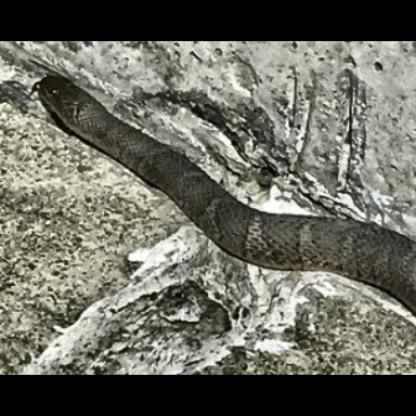Snake: (4, 68, 416, 361)
